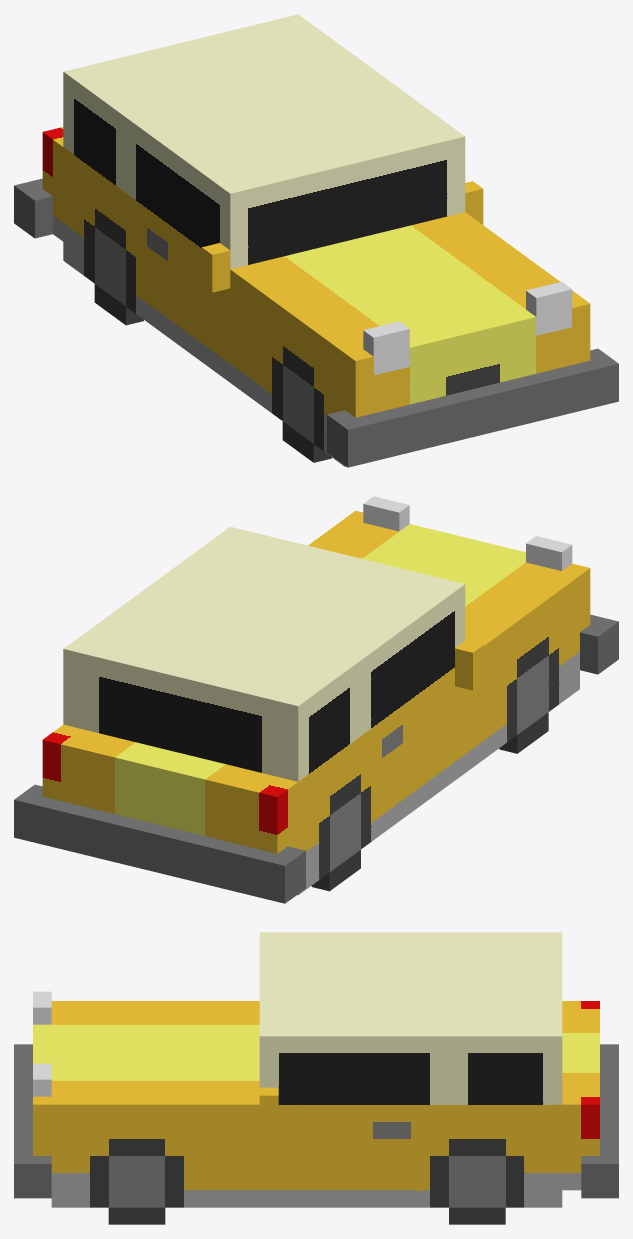
File: veh_wagon3.dae
3 views of the same model, one above another, from view 1: azimuth 30°, elevation 25°; view 2: azimuth 150°, elevation 25°; view 3: azimuth 270°, elevation 25° (orthographic). The views are drawn at different scales.
Parts seen in each view (by area): view 1: veh_wagon3; view 2: veh_wagon3; view 3: veh_wagon3.
Boxes of the visible parts, left/top/right/bottom form: veh_wagon3: left=14, top=14, right=618, bottom=467; veh_wagon3: left=14, top=496, right=618, bottom=903; veh_wagon3: left=14, top=932, right=618, bottom=1224.
Bounding box in the file's own units: 1.5 × 3.2 × 1.1.
1 material, 1 textured.
